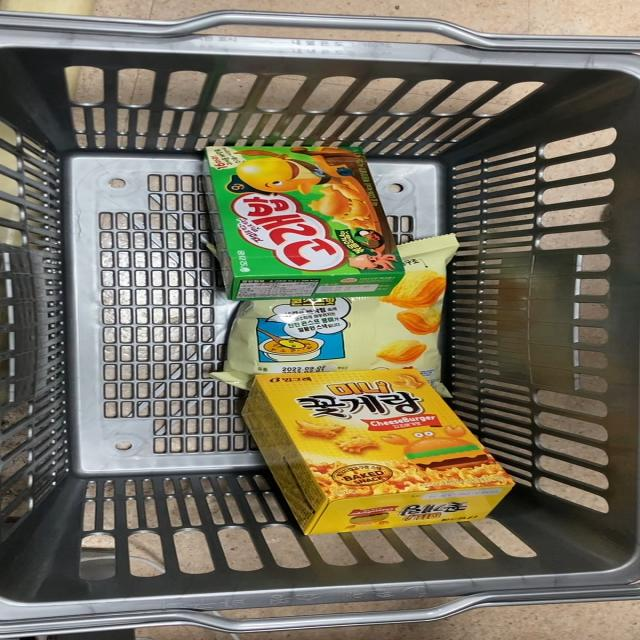ggobukchip: (232, 278, 429, 364)
goraebob: (188, 141, 403, 292)
minicrab: (238, 362, 504, 528)
